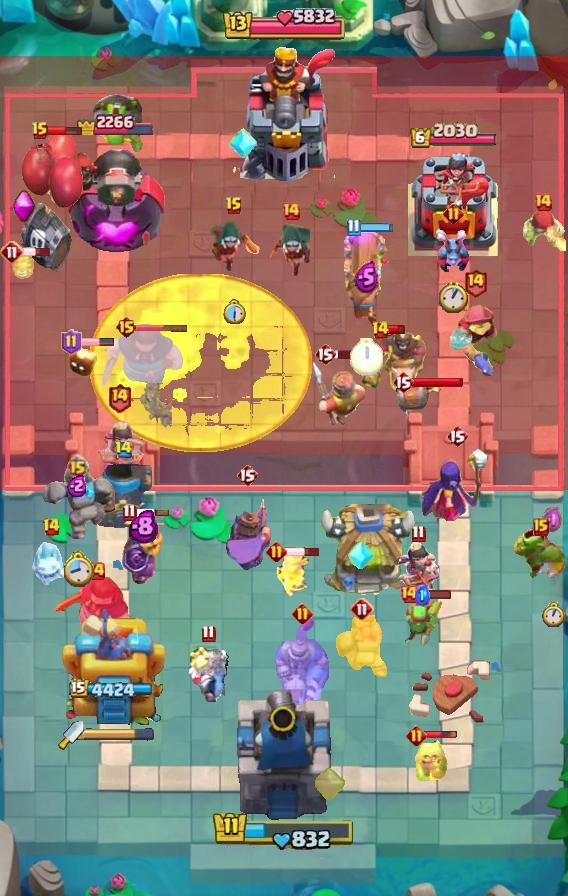archer: (275, 549, 309, 597)
bandit: (208, 217, 260, 275), (269, 221, 313, 281)
bar: (412, 376, 464, 388), (135, 323, 189, 332), (284, 546, 321, 558), (15, 246, 52, 258), (416, 589, 452, 600), (47, 125, 83, 136), (359, 222, 394, 233), (134, 508, 170, 518), (79, 337, 115, 347), (424, 730, 458, 740), (334, 349, 354, 360), (387, 324, 406, 335)
bar-level: (107, 382, 132, 413), (463, 267, 488, 298), (350, 597, 374, 621), (0, 240, 24, 264), (115, 315, 138, 339), (61, 329, 82, 355), (66, 454, 89, 477), (236, 463, 258, 487), (446, 424, 468, 448), (392, 370, 414, 394), (314, 342, 336, 366), (406, 725, 427, 746), (292, 603, 313, 624), (266, 541, 287, 562), (443, 203, 464, 224), (399, 584, 419, 604), (86, 561, 106, 581), (281, 201, 301, 221), (533, 192, 553, 212), (42, 517, 61, 537), (371, 320, 390, 340), (114, 440, 133, 459), (225, 196, 243, 216), (31, 121, 49, 141), (533, 518, 549, 536), (201, 624, 216, 643), (411, 524, 426, 543), (122, 503, 137, 522), (346, 218, 361, 237)
bomber: (520, 209, 566, 251)
cannoneer-tower: (62, 138, 166, 256)
clock: (61, 549, 94, 587), (350, 338, 383, 376), (439, 281, 468, 313), (222, 299, 246, 325), (542, 602, 565, 628)
dagger-duchess-tower: (62, 601, 166, 731)
dagger-duchess-tower-bar: (84, 728, 154, 742)
dirt: (130, 383, 172, 428)
elixir: (129, 509, 158, 543), (354, 261, 379, 293), (542, 506, 564, 534), (67, 474, 88, 497), (415, 585, 430, 605)
evolution-symbol: (315, 766, 347, 802), (12, 190, 36, 224)
fire-spirit: (67, 346, 97, 378)
goblin-ball: (92, 93, 146, 155)
goblin-brawler: (512, 524, 568, 582)
golemite: (39, 467, 115, 545), (333, 615, 391, 679)
heal-spirit: (411, 734, 449, 782)
ice-spirit: (29, 539, 73, 589)
ice-spirit-evolution-symbol: (347, 538, 375, 572), (229, 126, 257, 160)
king-tower: (230, 45, 338, 181), (232, 686, 336, 826)
king-tower-bar: (212, 810, 356, 852), (221, 5, 347, 45)
knight-evolution: (122, 515, 164, 585)
lava-pup: (9, 248, 37, 280)
minion: (436, 228, 470, 274)
mortar: (93, 464, 153, 528)
princess: (93, 418, 145, 476), (396, 542, 440, 602)
queen-tower: (408, 152, 498, 256)
royal-ghost: (187, 644, 229, 702)
royal-recruit: (310, 357, 366, 427)
spear-goblin: (401, 599, 443, 649)
tower-bar: (409, 122, 498, 150), (74, 108, 154, 135), (71, 679, 157, 701)
wall-breaker: (394, 378, 444, 420)
witch: (419, 444, 495, 524)
